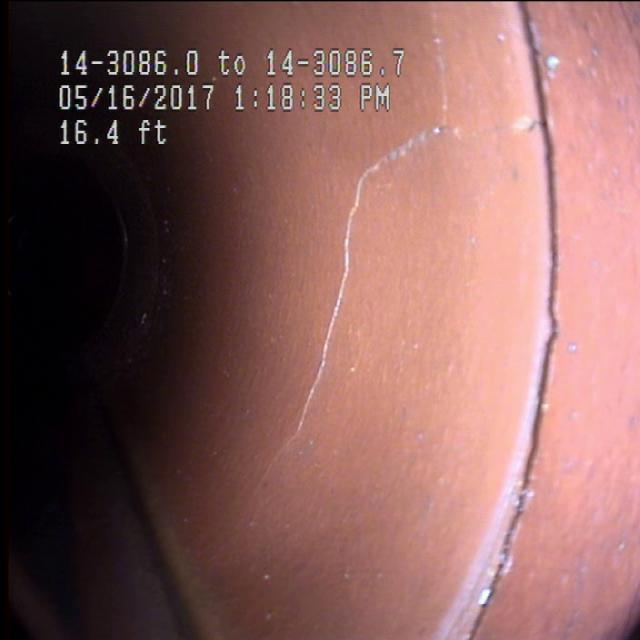Crack: (279, 119, 420, 456)
